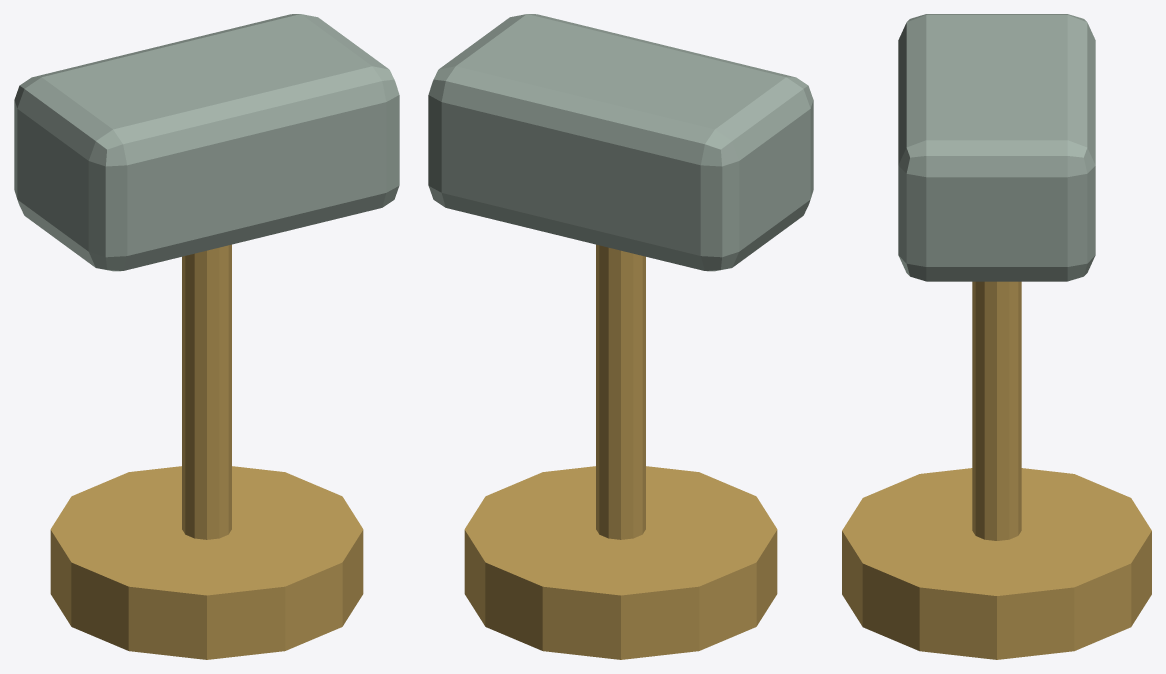
File: TableLamp_01.fbx
3 views of the same model, side by side, from view 1: azimuth 30°, elevation 25°; view 2: azimuth 150°, elevation 25°; view 3: azimuth 270°, elevation 25° (orthographic).
Visible parts, largest first — view 1: Shade, Base, Stem; view 2: Shade, Base, Stem; view 3: Shade, Base, Stem.
Part boxes in pixels (x1,y1,x2,y2): Shade: (14, 14, 399, 271); Base: (50, 466, 363, 659); Stem: (182, 244, 231, 539); Shade: (428, 14, 813, 271); Base: (464, 466, 777, 659); Stem: (596, 244, 645, 539); Shade: (898, 14, 1095, 281); Base: (842, 468, 1151, 659); Stem: (972, 281, 1021, 540).
Bounding box in the file's own units: 0.5 × 0.81 × 0.44.
